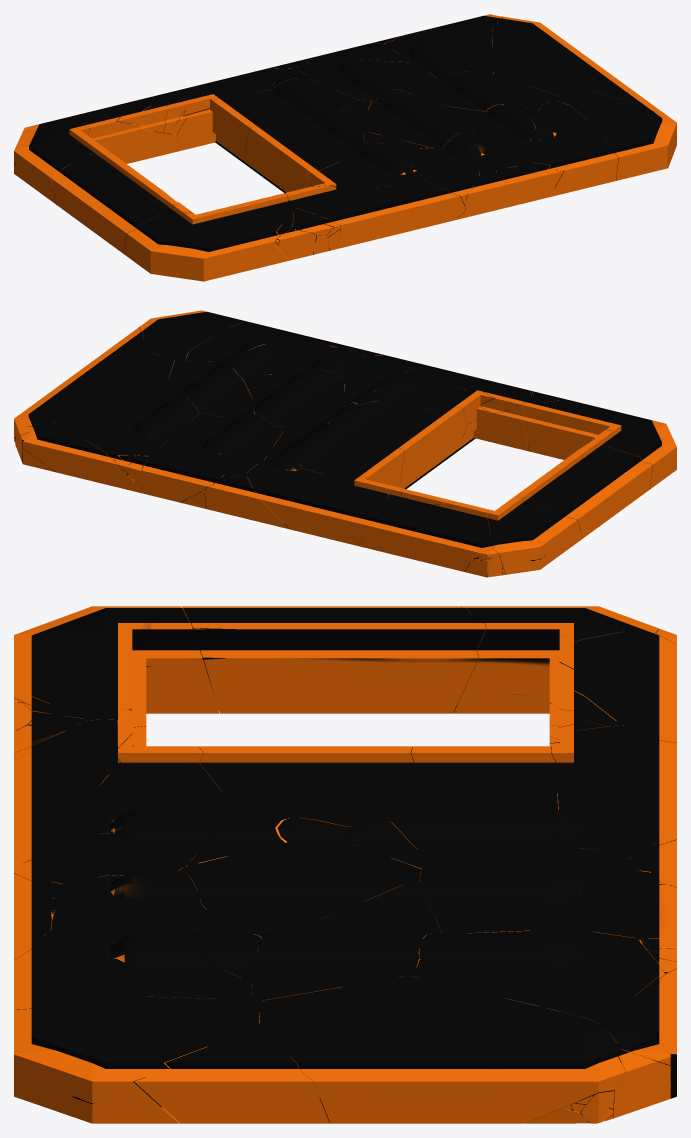
Rendered from ShieldDest.fbx.
3 renders of one model, top to bottom at view 1: azimuth 30°, elevation 25°; view 2: azimuth 150°, elevation 25°; view 3: azimuth 270°, elevation 25°, orthographic. The views are drawn at different scales.
Parts seen in each view (by area): view 1: Cube_cell.014, Cube_cell.047, Cube_cell.049, Cube_cell, Cube_cell.001, Cube_cell.045, Cube_cell.026, Cube_cell.041, Cube_cell.010, Cube_cell.034, Cube_cell.004, Cube_cell.027 (+18 smaller); view 2: Cube_cell.037, Cube_cell.049, Cube_cell.014, Cube_cell.034, Cube_cell.001, Cube_cell.045, Cube_cell.027, Cube_cell, Cube_cell.053, Cube_cell.010, Cube_cell.046, Cube_cell.004 (+17 smaller); view 3: Cube_cell.045, Cube_cell.049, Cube_cell.041, Cube_cell.014, Cube_cell, Cube_cell.010, Cube_cell.037, Cube_cell.053, Cube_cell.001, Cube_cell.004, Cube_cell.026, Cube_cell.056 (+19 smaller).
Part boxes in pixels (x1,y1,x2,y2): Cube_cell.014: [123, 193, 295, 281]; Cube_cell.047: [285, 185, 464, 250]; Cube_cell.049: [51, 145, 177, 253]; Cube_cell: [176, 78, 359, 167]; Cube_cell.001: [244, 111, 364, 192]; Cube_cell.045: [492, 19, 616, 96]; Cube_cell.026: [529, 100, 618, 196]; Cube_cell.041: [564, 90, 676, 180]; Cube_cell.010: [356, 89, 502, 148]; Cube_cell.034: [30, 98, 181, 163]; Cube_cell.004: [397, 71, 559, 116]; Cube_cell.027: [14, 126, 99, 204]; Cube_cell.037: [246, 457, 388, 545]; Cube_cell.049: [515, 439, 652, 538]; Cube_cell.014: [522, 402, 676, 489]; Cube_cell.034: [358, 502, 493, 571]; Cube_cell.001: [327, 400, 466, 489]; Cube_cell.045: [14, 352, 174, 430]; Cube_cell.027: [486, 496, 582, 574]; Cube_cell: [264, 424, 404, 486]; Cube_cell.053: [60, 397, 199, 462]; Cube_cell.010: [233, 367, 356, 426]; Cube_cell.046: [20, 422, 129, 487]; Cube_cell.004: [163, 360, 255, 418]; Cube_cell.045: [259, 975, 625, 1123]; Cube_cell.049: [181, 606, 486, 713]; Cube_cell.041: [14, 995, 260, 1123]; Cube_cell.014: [14, 606, 219, 727]; Cube_cell: [390, 743, 560, 860]; Cube_cell.010: [178, 817, 422, 939]; Cube_cell.037: [551, 724, 676, 853]; Cube_cell.053: [419, 930, 665, 1023]; Cube_cell.001: [199, 746, 414, 827]; Cube_cell.004: [249, 879, 441, 1000]; Cube_cell.026: [14, 931, 254, 1009]; Cube_cell.056: [134, 1027, 329, 1123].
Size of the model in its own units: 406 by 41.06 by 240.
